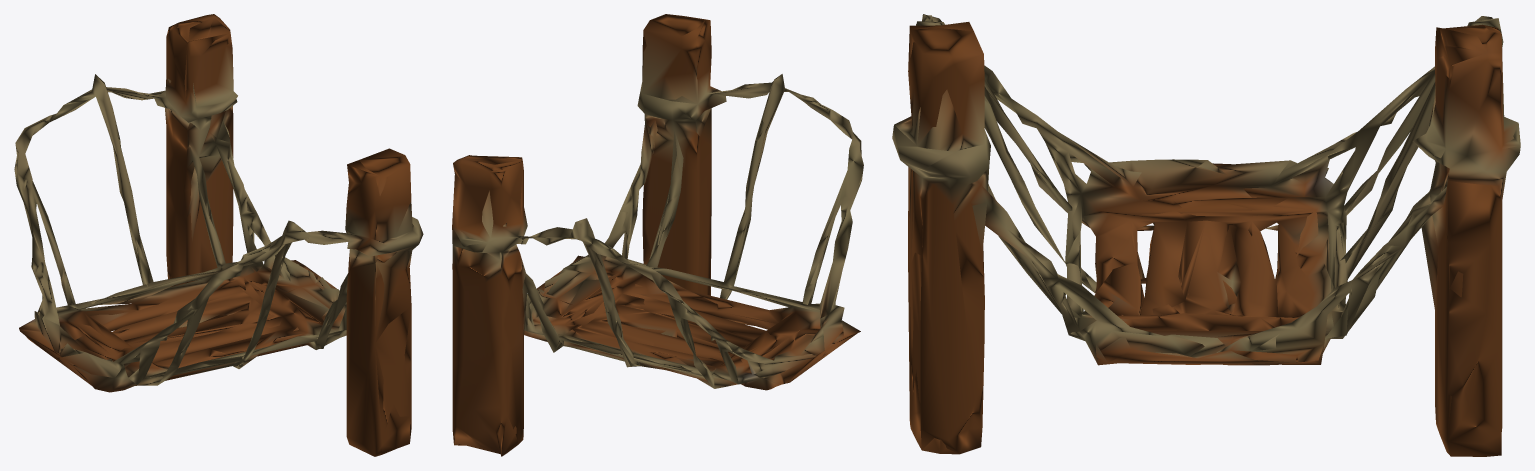
File: gen3d-rope-bridge-lod0.glb
3 renders of one model, left to right at view 1: azimuth 30°, elevation 25°; view 2: azimuth 150°, elevation 25°; view 3: azimuth 270°, elevation 25°, orthographic. The views are drawn at different scales.
Visible parts, largest first — view 1: part_0; view 2: part_0; view 3: part_0.
Boxes of the visible parts, x1,y1,x2,y2 form: part_0: (14, 14, 423, 456); part_0: (452, 14, 863, 456); part_0: (892, 14, 1520, 456).
Size of the model in its own units: 1.04 by 0.9949 by 1.41.
